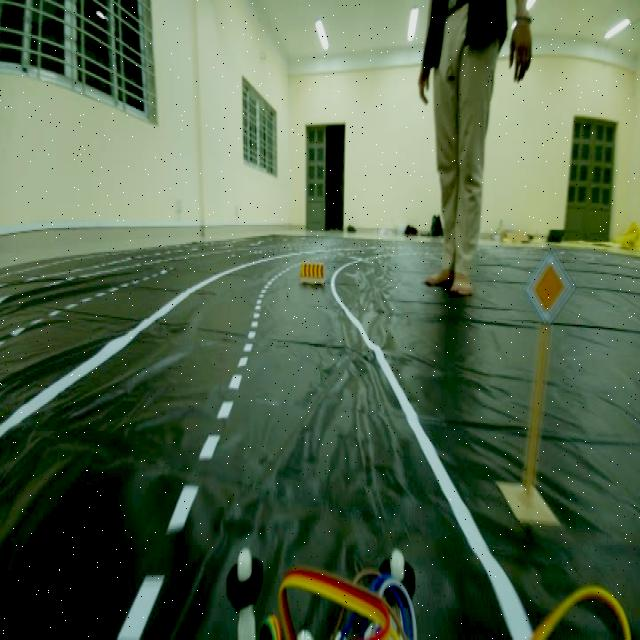priority: (527, 239, 581, 347)
roadblock: (294, 256, 329, 294)
